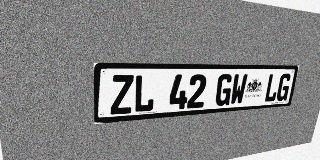2: (187, 74, 207, 109)
4: (169, 74, 190, 110)
G: (214, 74, 234, 106), (275, 74, 292, 101)
L: (133, 75, 156, 113), (263, 74, 281, 102)
W: (229, 74, 248, 105)
Z: (110, 75, 134, 115)
